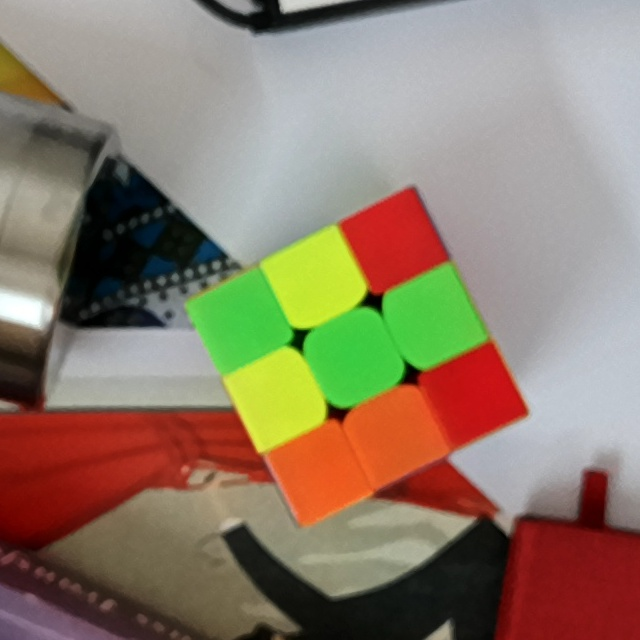tile: (401, 288, 463, 347), (365, 212, 426, 270), (249, 367, 305, 429), (292, 439, 346, 501), (323, 329, 380, 387), (442, 366, 500, 423), (213, 294, 270, 350), (366, 406, 423, 461), (286, 253, 346, 305)
